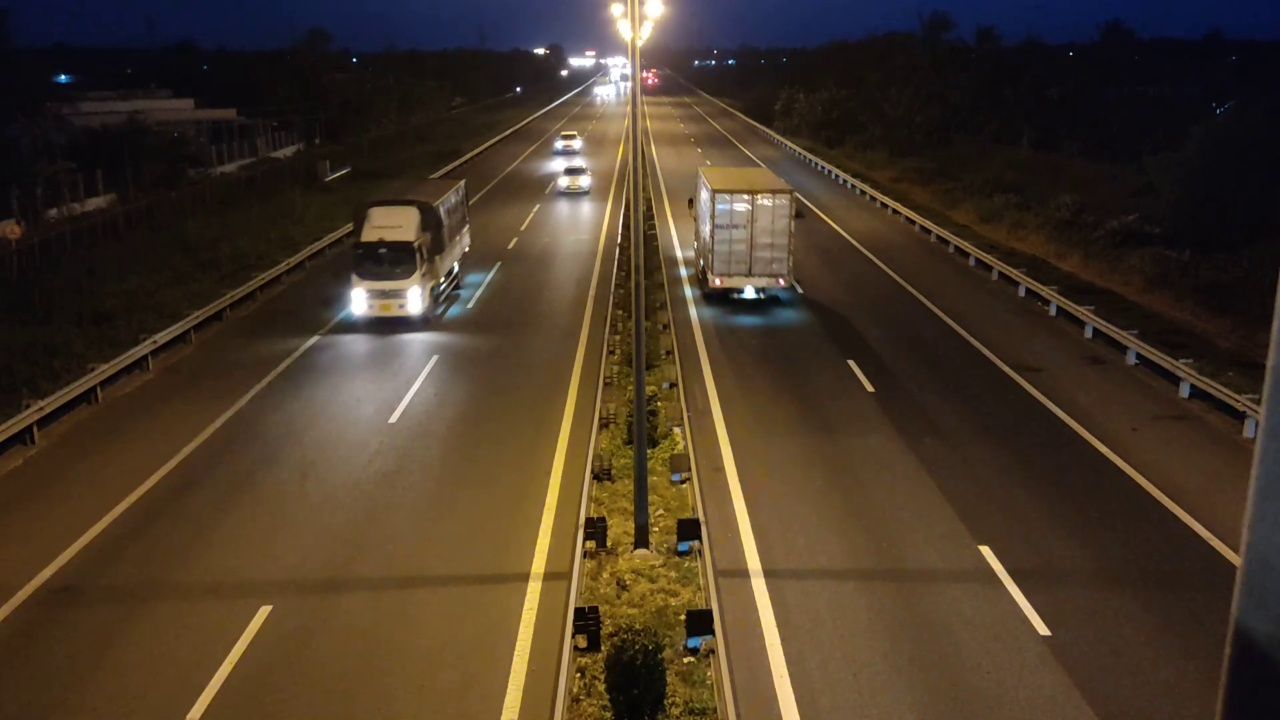car: (557, 163, 593, 194), (552, 131, 584, 155)
truck: (349, 177, 473, 325), (689, 164, 799, 305)
